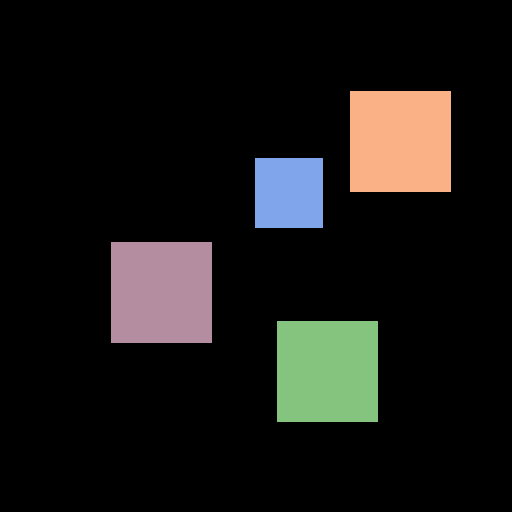square: (277, 321, 377, 421), (111, 242, 211, 342), (350, 91, 450, 191), (255, 158, 322, 227)
